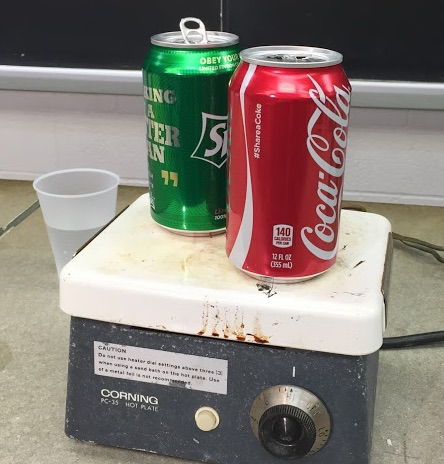can: (228, 43, 353, 287), (142, 15, 243, 238)
